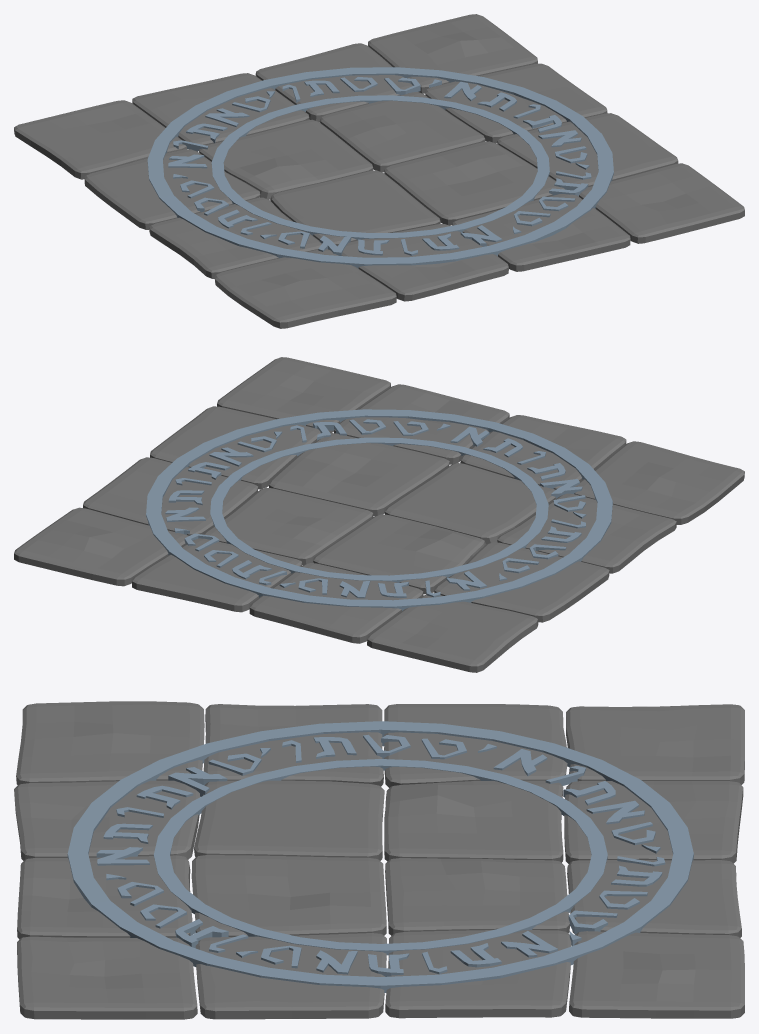
File: Ckeckpoint_allume.fbx
The picture shows the model from 3 angles, top to bottom: view 1: azimuth 30°, elevation 25°; view 2: azimuth 150°, elevation 25°; view 3: azimuth 270°, elevation 25°; orthographic projection. The views are drawn at different scales.
Visible parts, largest first — view 1: Cube.002, Cylinder; view 2: Cube.002, Cylinder; view 3: Cube.002, Cylinder.
Part boxes in pixels (left/top/right/bottom): Cube.002: left=14, top=14, right=744, bottom=328; Cylinder: left=147, top=67, right=613, bottom=268; Cube.002: left=14, top=357, right=744, bottom=672; Cylinder: left=146, top=409, right=612, bottom=610; Cube.002: left=14, top=701, right=744, bottom=1019; Cylinder: left=67, top=721, right=693, bottom=992.
Bounding box in the file's own units: 819 × 25.88 × 817.
